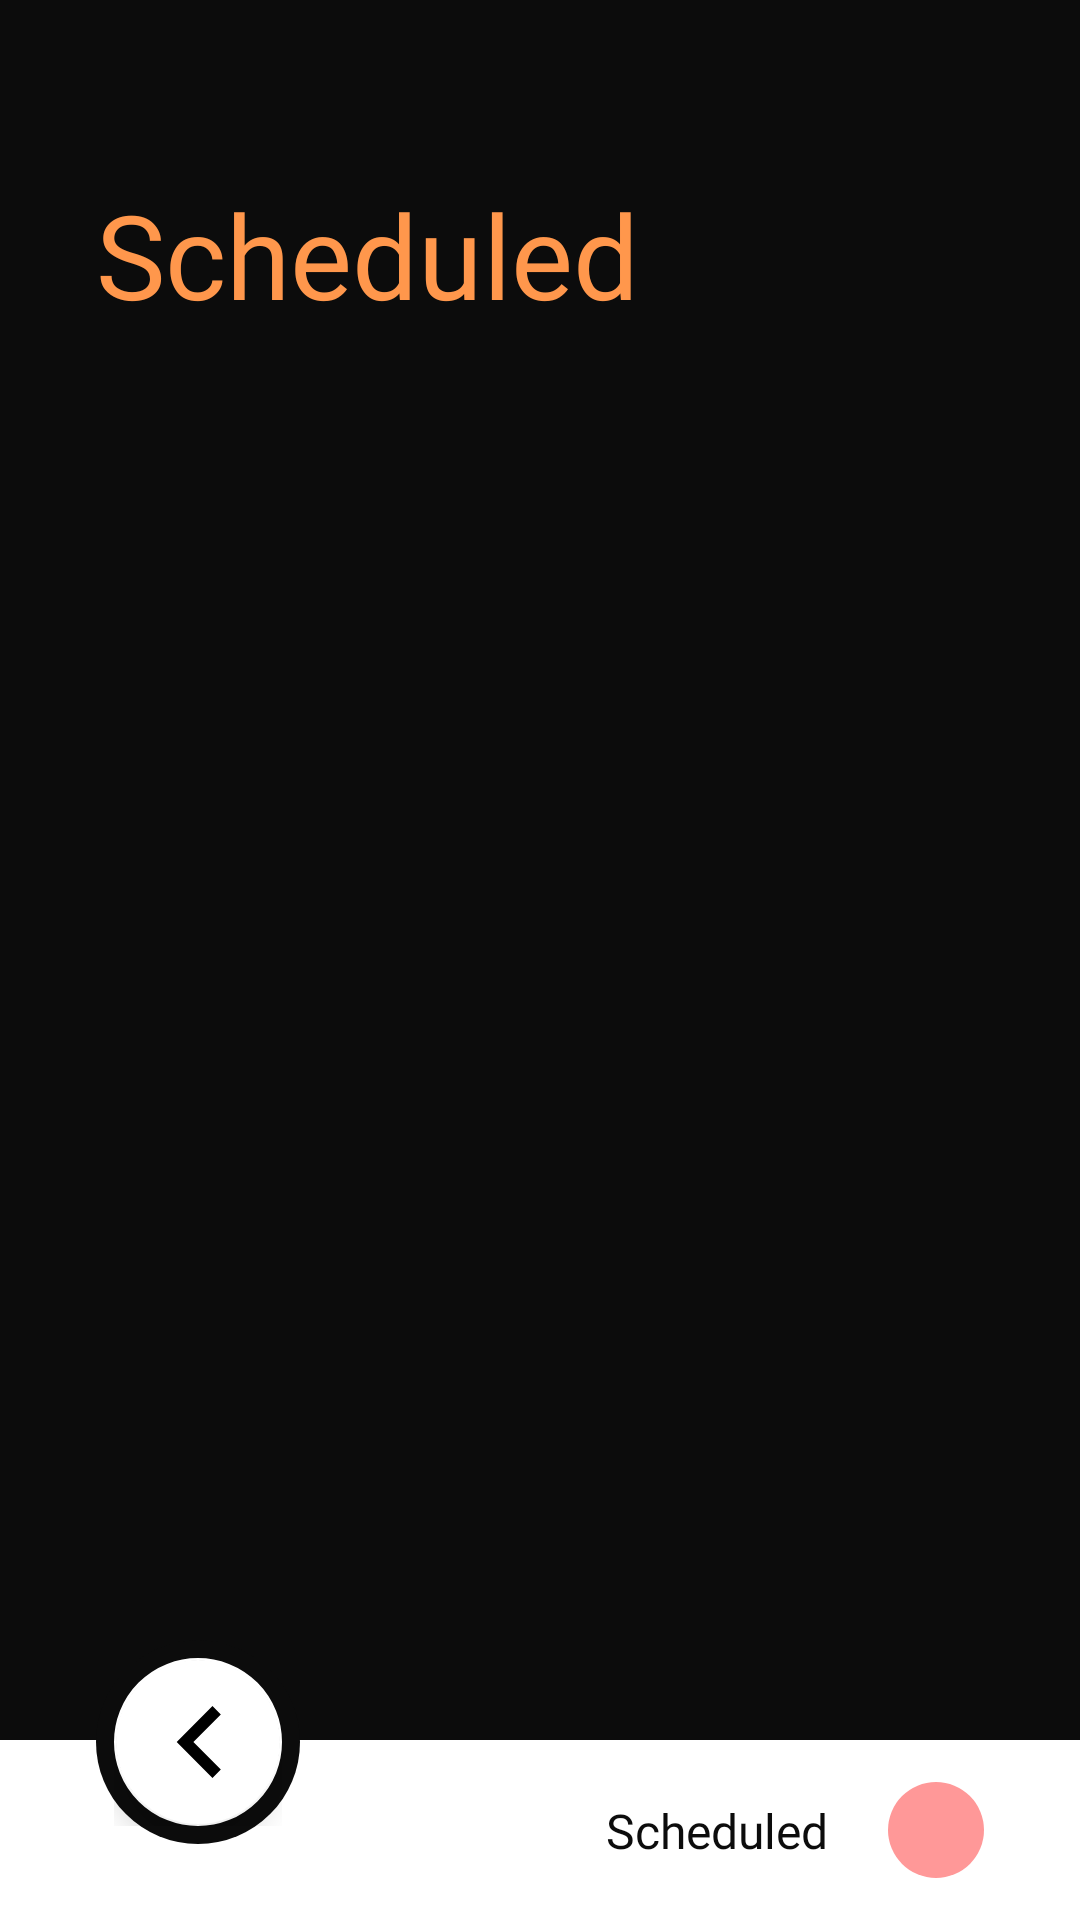

Named icons in this screenshot (1080x1920) and their bounding boxes, (x1, y1, x2, y2):
arrow: (114, 1658, 282, 1826)
